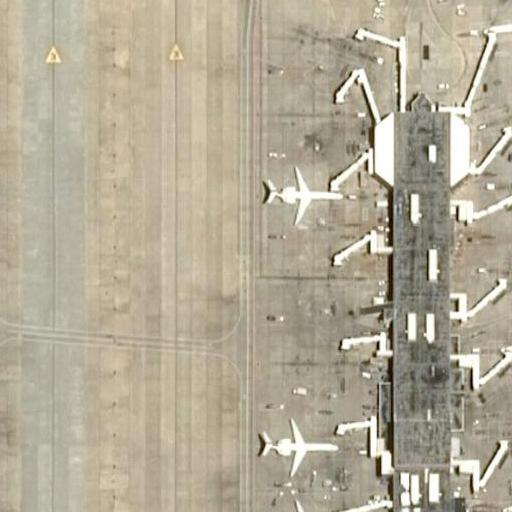Aircraft: (258, 164, 344, 225), (257, 418, 342, 475), (483, 0, 512, 53), (259, 498, 349, 512), (499, 317, 512, 380), (499, 475, 512, 512), (509, 150, 512, 213)
